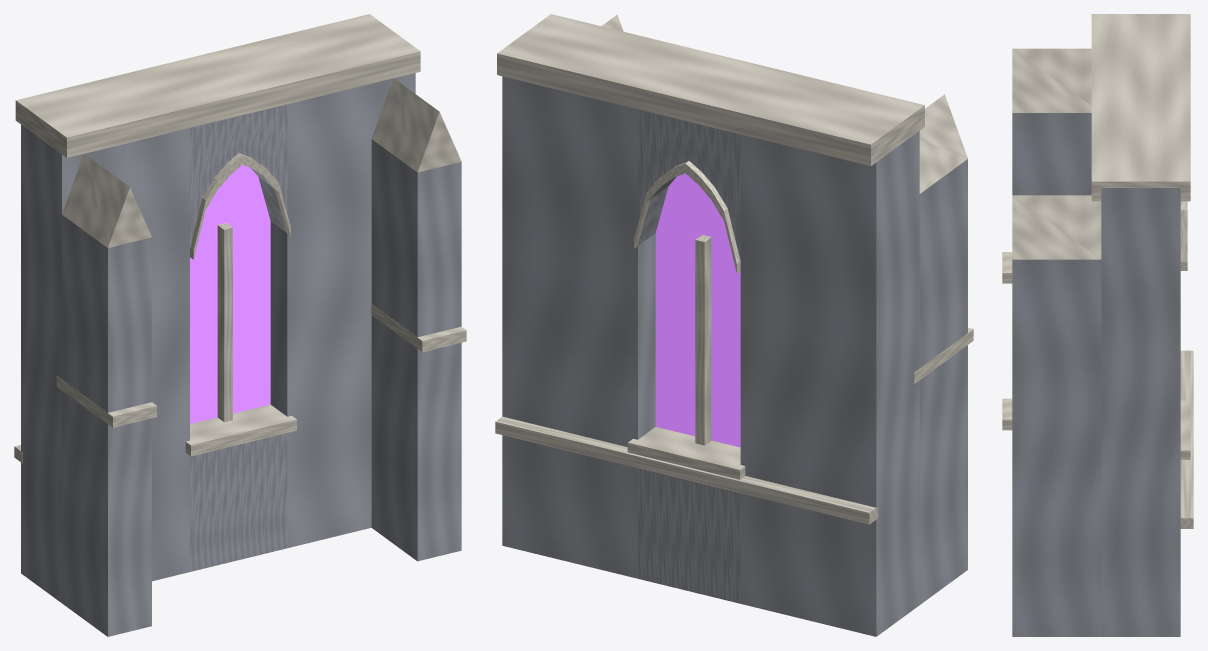
The picture shows the model from 3 angles, left to right: view 1: azimuth 30°, elevation 25°; view 2: azimuth 150°, elevation 25°; view 3: azimuth 270°, elevation 25°; orthographic projection. The views are drawn at different scales.
Visible parts, largest first — view 1: aisle-bay; view 2: aisle-bay; view 3: aisle-bay.
Boxes of the visible parts, bbox=[...] form: aisle-bay: bbox=[14, 14, 466, 636]; aisle-bay: bbox=[495, 14, 973, 636]; aisle-bay: bbox=[1002, 14, 1193, 636].
Bounding box in the file's own units: 4 × 5.07 × 1.93.
Materials: 3 (2 with a texture image).
